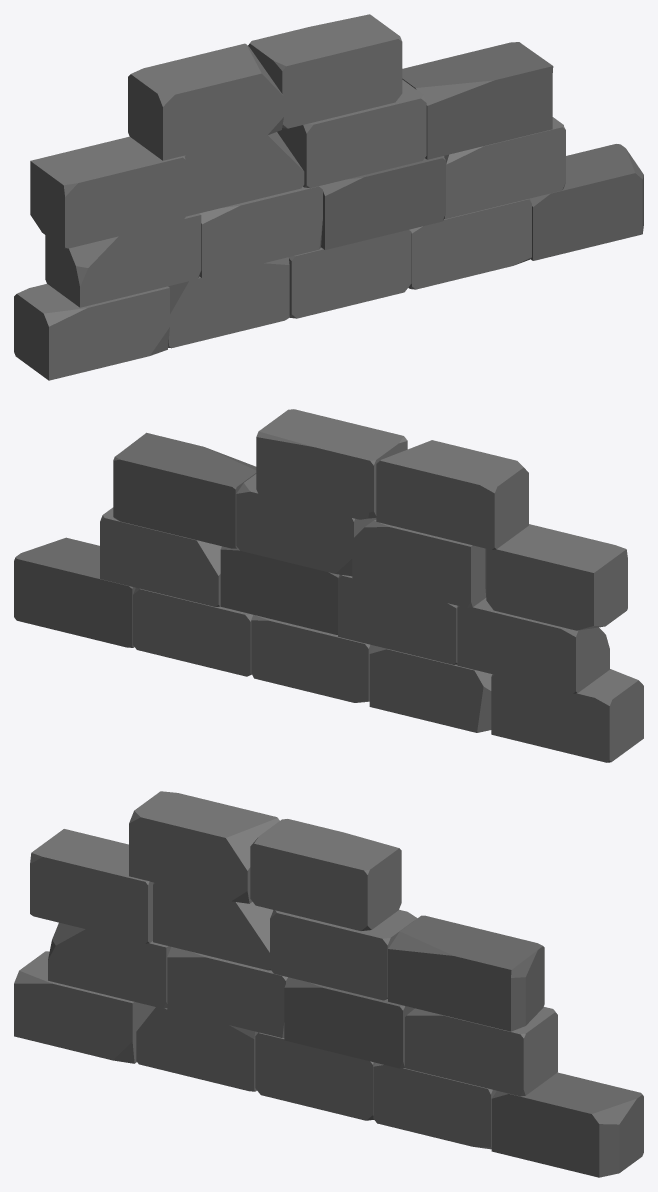
Rendered from Wall_01.fbx.
3 views of the same model, one above another, from view 1: azimuth 30°, elevation 25°; view 2: azimuth 150°, elevation 25°; view 3: azimuth 330°, elevation 25° (orthographic). The views are drawn at different scales.
Parts seen in each view (by area): view 1: Wall_01_LOD0; view 2: Wall_01_LOD0; view 3: Wall_01_LOD0.
Part boxes in pixels (x1,y1,x2,y2): Wall_01_LOD0: [14, 14, 643, 380]; Wall_01_LOD0: [14, 409, 643, 762]; Wall_01_LOD0: [14, 791, 643, 1177].
Size of what is drawn, in the model's own units: 3.7 by 1.48 by 0.4095.
